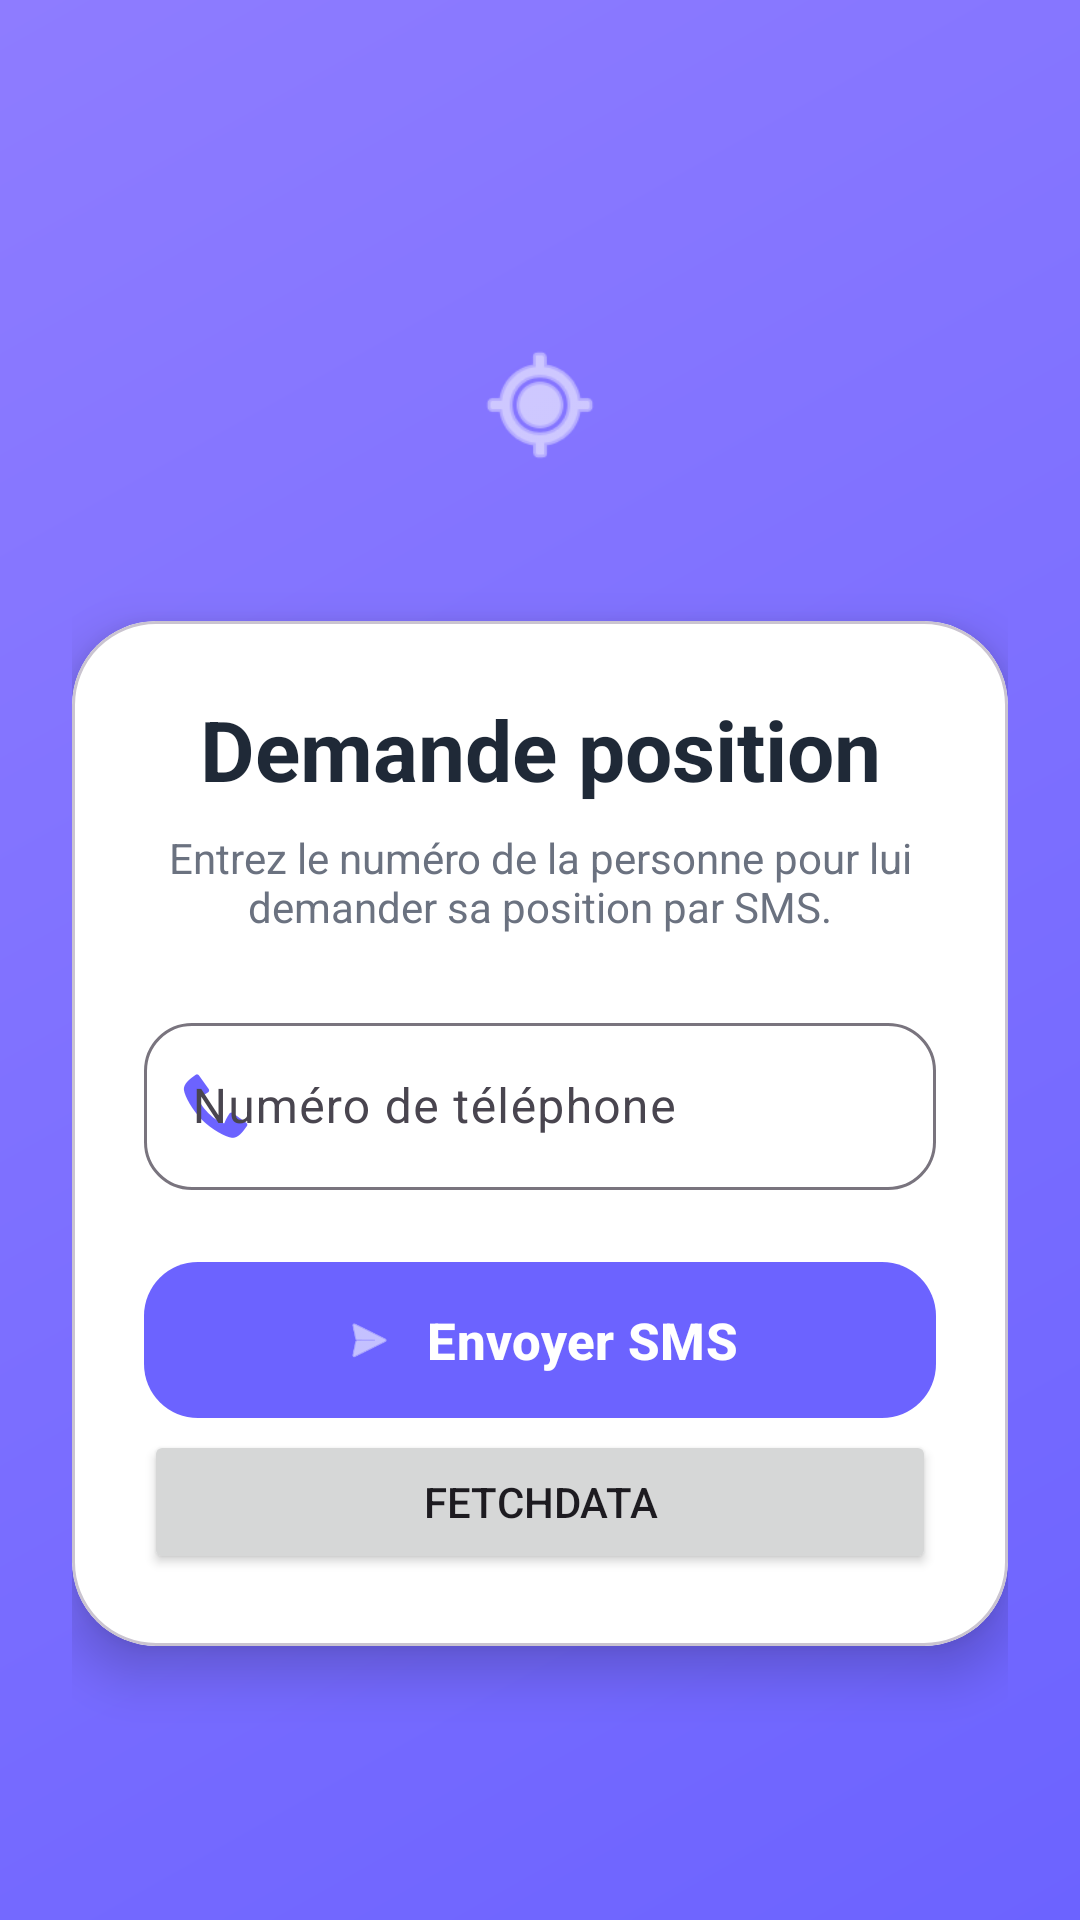

Icons on this 1080w x 1920h Android screen, each with the point to tap as [x,y]:
Icône de localisation: [540,405]
